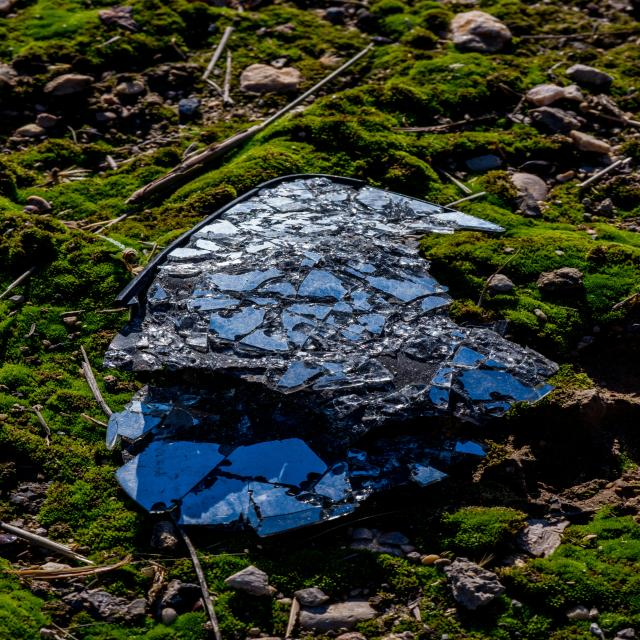electronic: (100, 171, 560, 538)
